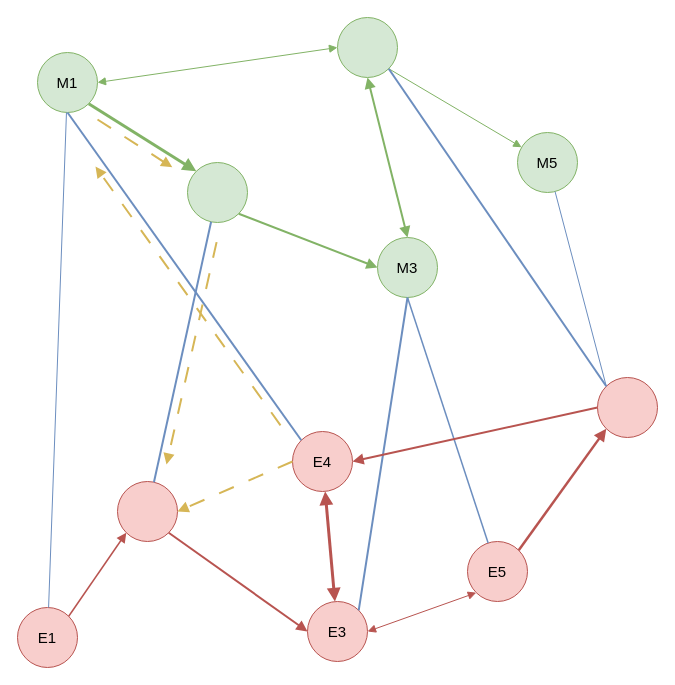
The diagram is 675 pixels wide and 685 high, and some of its shapes have lost their labels. The centre of each missing label's shape, as x and y in pixels:
E2: (147,511)
E6: (627,407)
M2: (217,192)
M4: (367,47)
